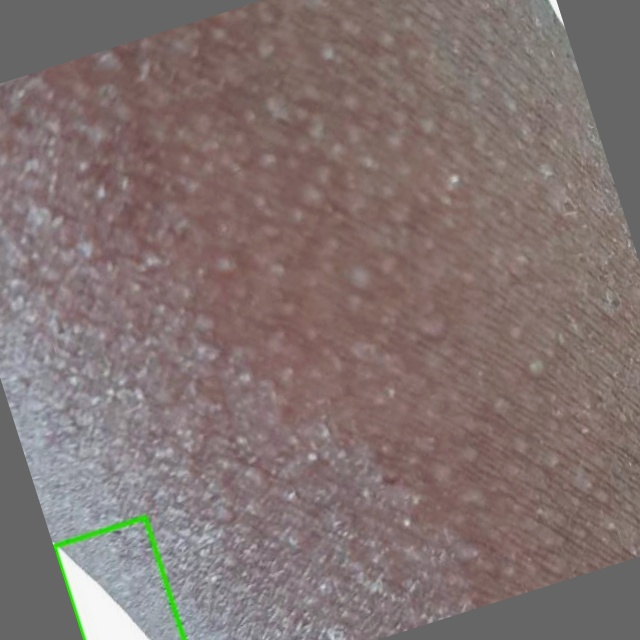Contact Dermatitis: (54, 517, 184, 639)
